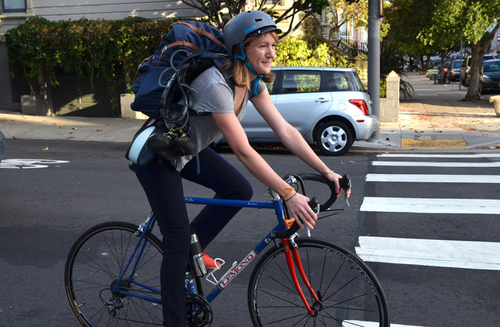bikerider: (62, 2, 393, 326)
